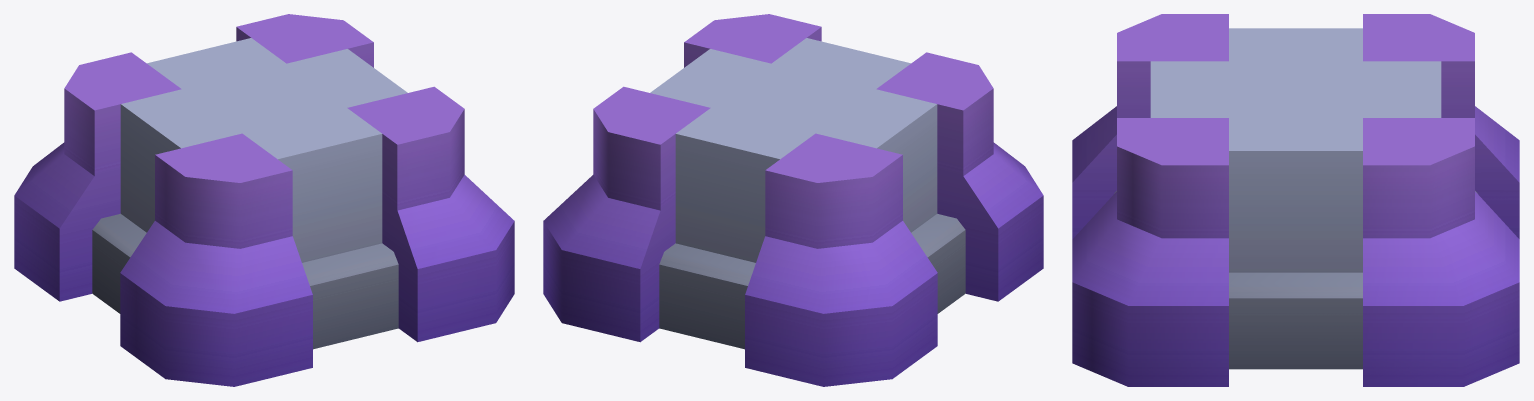
File: kenney-tower-defense-tower-square-bottom-b.glb
3 views of the same model, side by side, from view 1: azimuth 30°, elevation 25°; view 2: azimuth 150°, elevation 25°; view 3: azimuth 270°, elevation 25° (orthographic). The views are drawn at different scales.
Parts seen in each view (by area): view 1: tower-square-bottom-b; view 2: tower-square-bottom-b; view 3: tower-square-bottom-b.
Part boxes in pixels (<box>): tower-square-bottom-b: <box>14,14,514,386</box>; tower-square-bottom-b: <box>543,14,1043,386</box>; tower-square-bottom-b: <box>1072,14,1519,386</box>.
Size of the model in its own units: 1 by 0.5001 by 1.
1 material, 1 textured.
